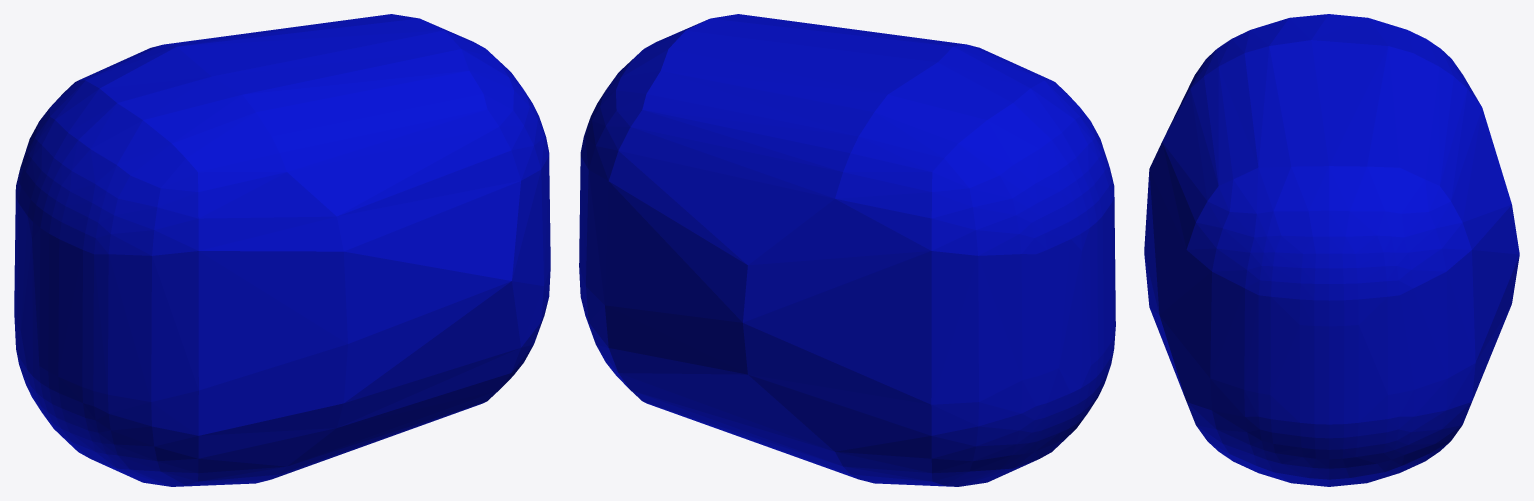
File: COL_hollie_real_014_collision.dae
The picture shows the model from 3 angles, left to right: view 1: azimuth 30°, elevation 25°; view 2: azimuth 150°, elevation 25°; view 3: azimuth 270°, elevation 25°; orthographic projection. The views are drawn at different scales.
Parts seen in each view (by area): view 1: COL_hollie_real_014_collision; view 2: COL_hollie_real_014_collision; view 3: COL_hollie_real_014_collision.
Boxes of the visible parts, left/top/right/bottom form: COL_hollie_real_014_collision: left=14, top=14, right=550, bottom=486; COL_hollie_real_014_collision: left=579, top=14, right=1115, bottom=486; COL_hollie_real_014_collision: left=1144, top=14, right=1519, bottom=486.
Bounding box in the file's own units: 0.0775 × 0.0568 × 0.0597.
